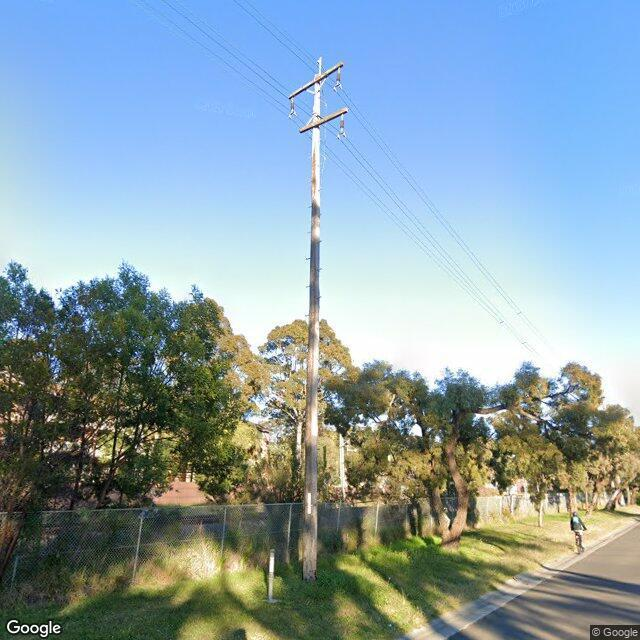HV-transmission: (288, 56, 346, 140)
crossarm: (288, 62, 344, 100), (300, 108, 348, 134)
timber-pole: (302, 73, 321, 581)
